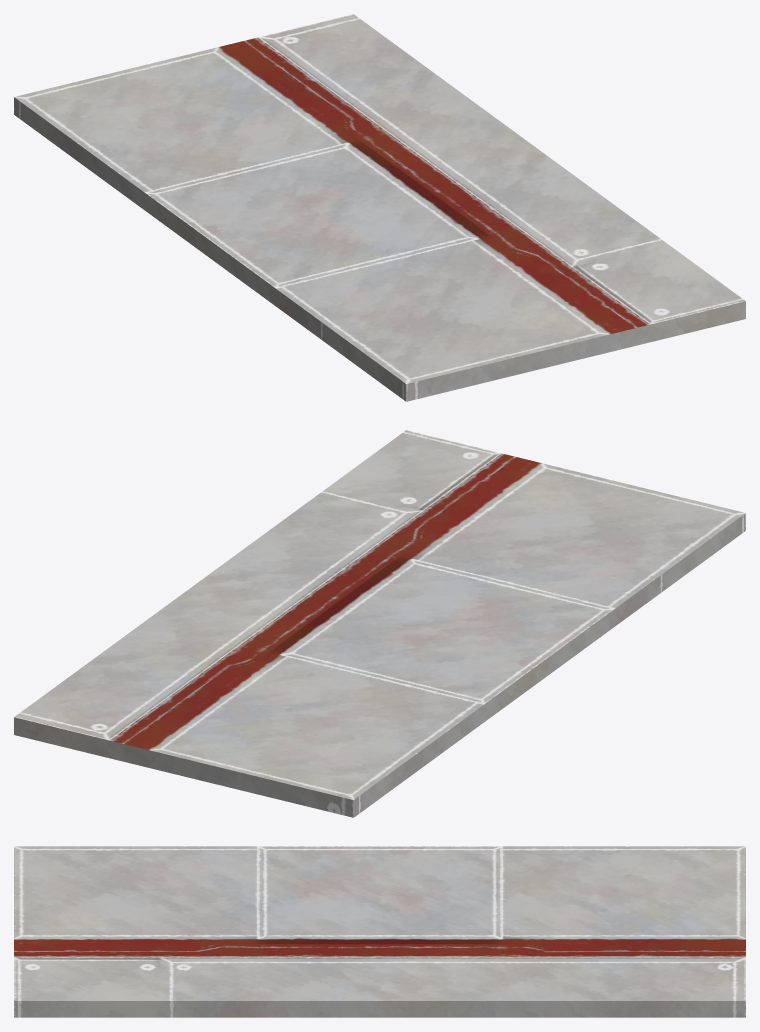
Rendered from SM_Ceiling_Standard_B.fbx.
3 views of the same model, one above another, from view 1: azimuth 30°, elevation 25°; view 2: azimuth 150°, elevation 25°; view 3: azimuth 270°, elevation 25° (orthographic). The views are drawn at different scales.
Parts seen in each view (by area): view 1: SM_Ceiling_Standard_B; view 2: SM_Ceiling_Standard_B; view 3: SM_Ceiling_Standard_B.
Part boxes in pixels (<box>): SM_Ceiling_Standard_B: <box>14,14,745,401</box>; SM_Ceiling_Standard_B: <box>14,430,745,817</box>; SM_Ceiling_Standard_B: <box>14,846,745,1017</box>.
Bounding box in the file's own units: 100 × 5 × 200.
1 material, 1 textured.
